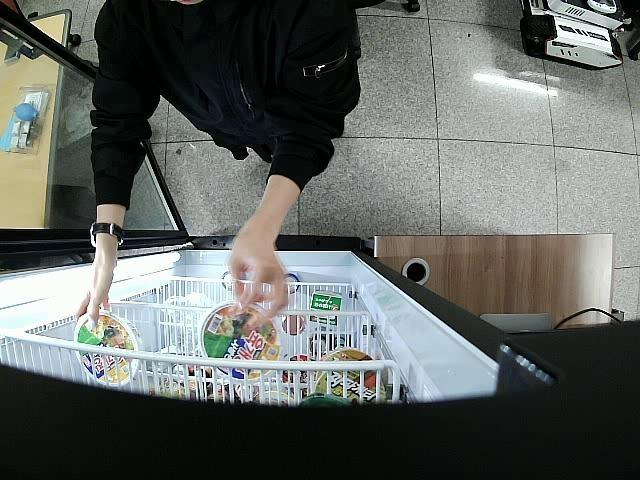09_yukGaeJang: (198, 303, 284, 382), (74, 311, 142, 388)
